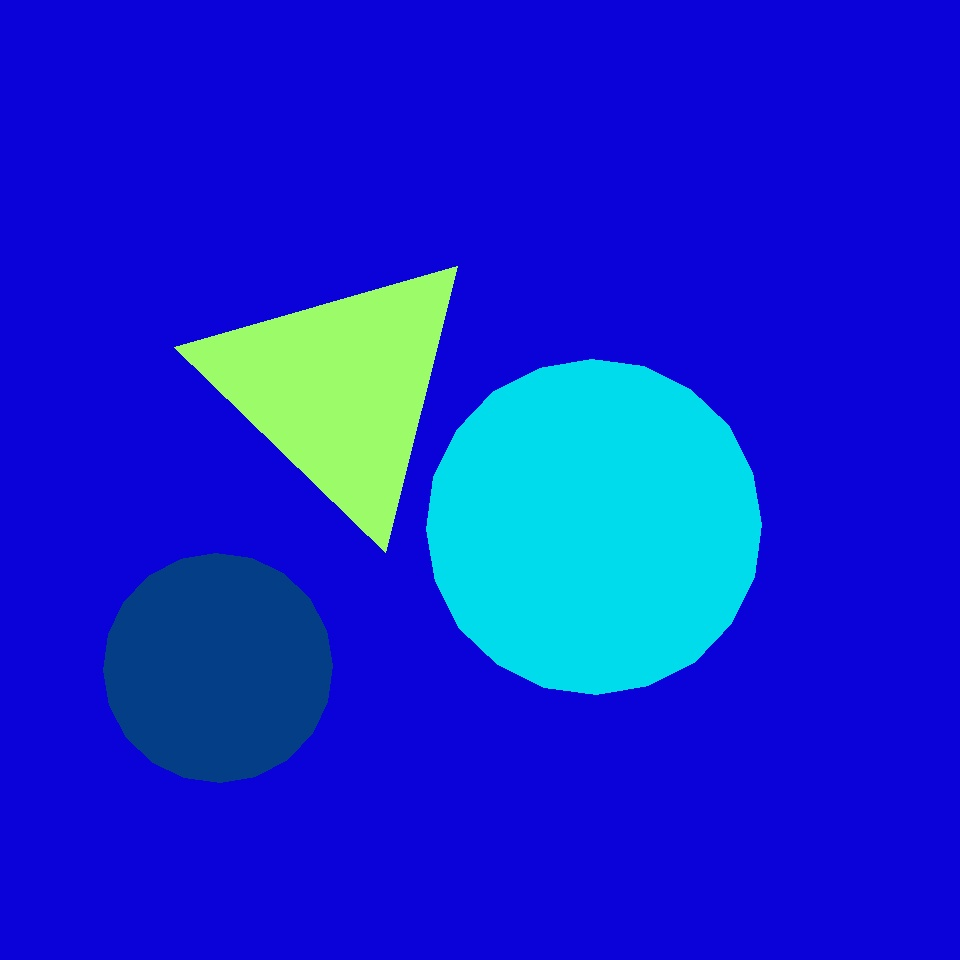circle: (198, 246, 480, 532)
square: (538, 461, 652, 574)
triangle: (427, 360, 762, 694), (103, 554, 332, 782)
